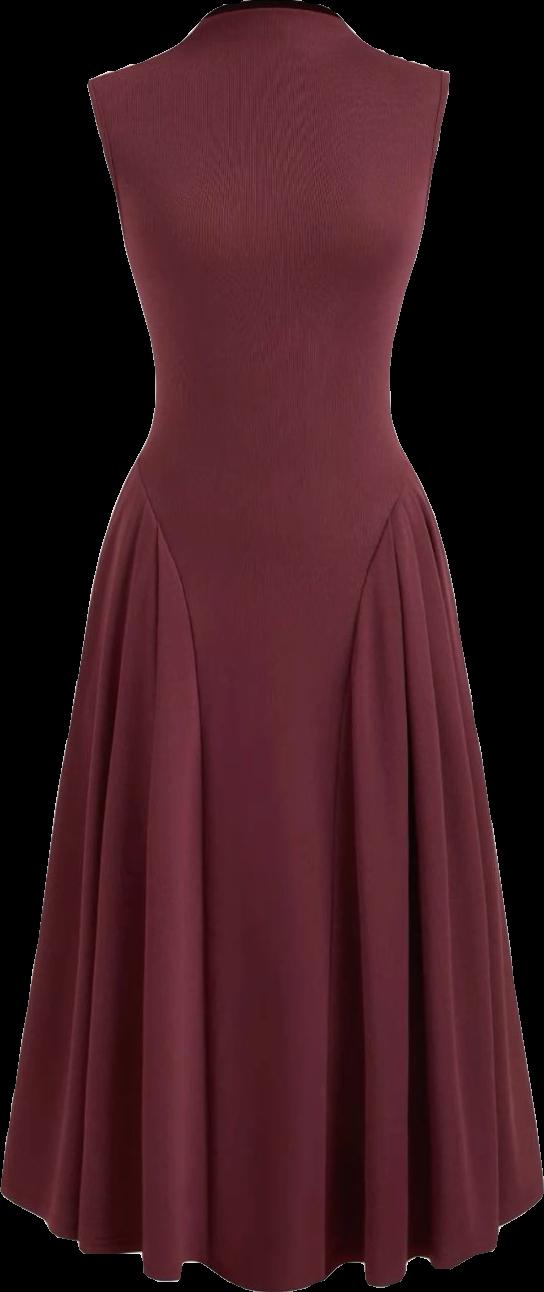Bodice: (87, 0, 449, 477)
Hemline: (0, 1179, 543, 1291)
Neckline: (210, 9, 337, 40)
Skirt: (1, 472, 543, 1291)
